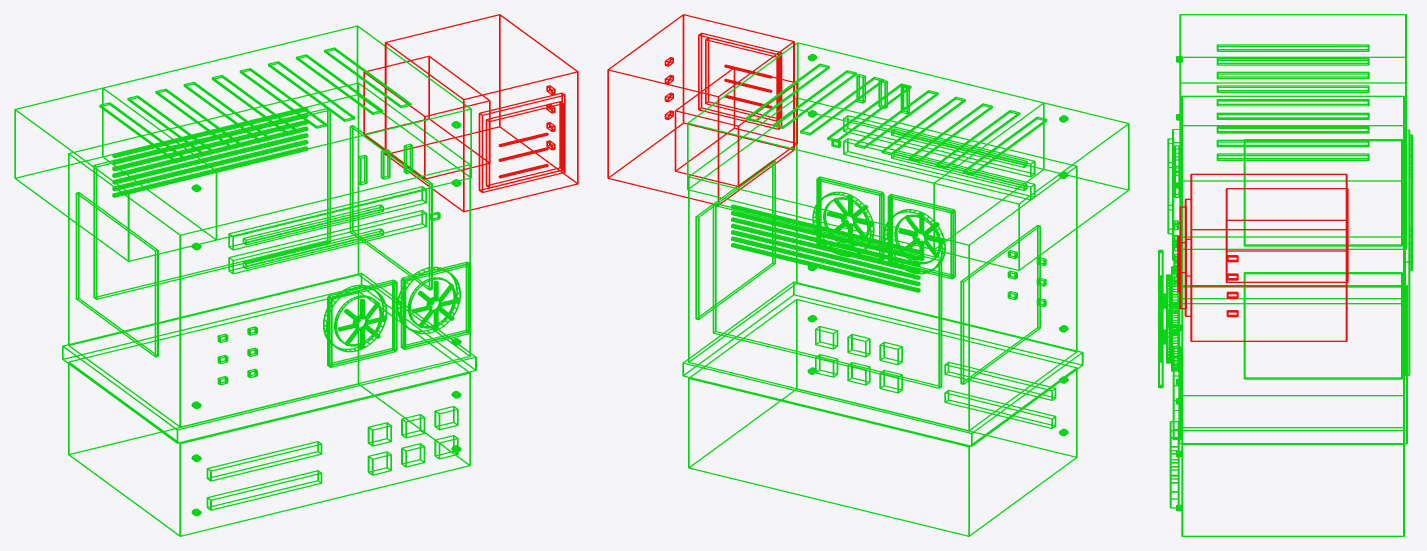
File: asteroid-tracker-highlight-user-interface.glb
The picture shows the model from 3 angles, left to right: view 1: azimuth 30°, elevation 25°; view 2: azimuth 150°, elevation 25°; view 3: azimuth 270°, elevation 25°; orthographic projection. The views are drawn at different scales.
Visible parts, largest first — view 1: chassis technical wire, user-interface technical wire, cooling-fans technical wire, data-storage technical wire; view 2: chassis technical wire, user-interface technical wire, cooling-fans technical wire, data-storage technical wire; view 3: chassis technical wire, user-interface technical wire, cooling-fans technical wire, data-storage technical wire.
Part boxes in pixels (<box>): chassis technical wire: <box>62,25,476,536</box>; user-interface technical wire: <box>363,14,578,212</box>; cooling-fans technical wire: <box>323,261,471,367</box>; data-storage technical wire: <box>14,87,216,261</box>; chassis technical wire: <box>682,42,1083,536</box>; user-interface technical wire: <box>607,14,797,205</box>; cooling-fans technical wire: <box>812,176,955,279</box>; data-storage technical wire: <box>934,102,1129,270</box>; chassis technical wire: <box>1167,44,1412,536</box>; user-interface technical wire: <box>1177,173,1348,341</box>; cooling-fans technical wire: <box>1158,249,1179,388</box>; data-storage technical wire: <box>1179,14,1406,125</box>.
Bounding box in the file's own units: 2.6 × 1.98 × 1.26.
